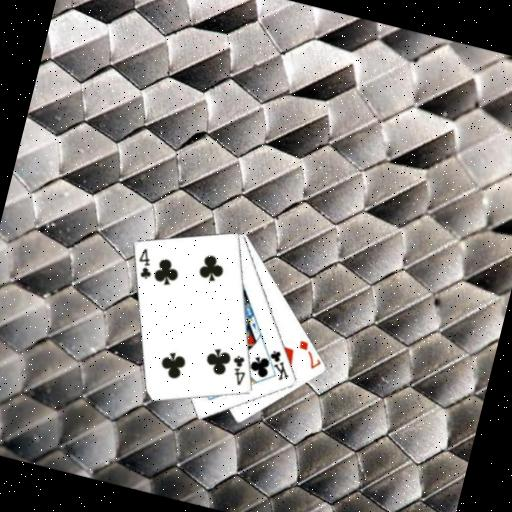4C: (224, 351, 252, 389), (132, 244, 160, 282)
7D: (292, 336, 327, 372)
KC: (257, 345, 297, 385)
